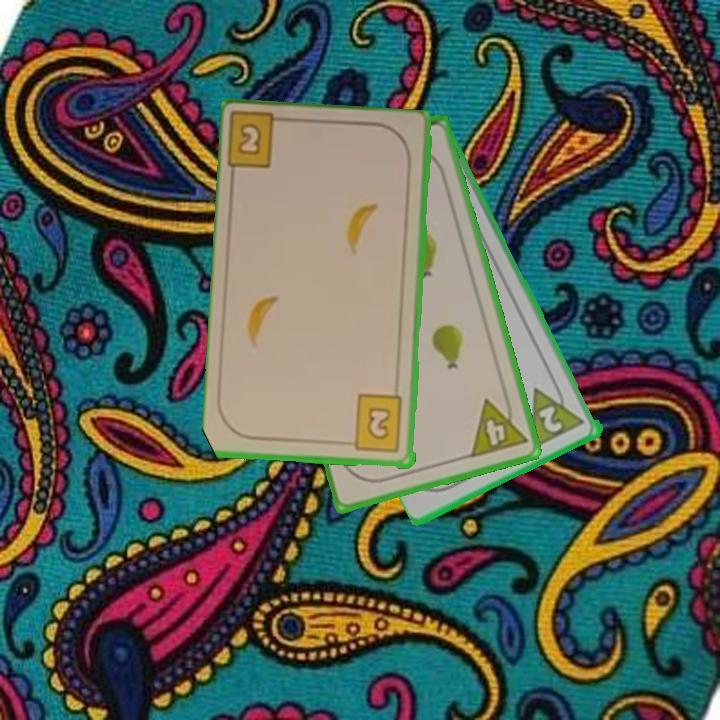2b: (226, 112, 294, 173), (342, 392, 406, 455)
2p: (527, 376, 588, 451)
4p: (466, 390, 530, 461)
